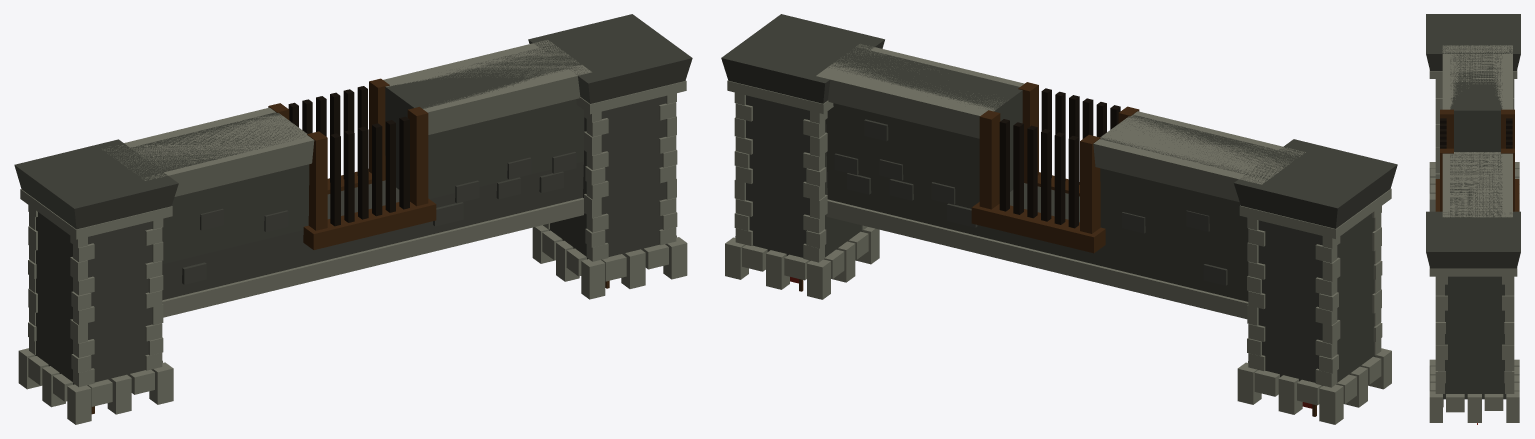
The model's file is doorwall.obj.
The picture shows the model from 3 angles, left to right: view 1: azimuth 30°, elevation 25°; view 2: azimuth 150°, elevation 25°; view 3: azimuth 270°, elevation 25°; orthographic projection. The views are drawn at different scales.
Visible parts, largest first — view 1: WallTowers_DoorClosed_SecondAge_Cube.001; view 2: WallTowers_DoorClosed_SecondAge_Cube.001; view 3: WallTowers_DoorClosed_SecondAge_Cube.001.
Part boxes in pixels (x1=…): WallTowers_DoorClosed_SecondAge_Cube.001: x1=14, y1=14, x2=692, y2=424; WallTowers_DoorClosed_SecondAge_Cube.001: x1=721, y1=14, x2=1397, y2=424; WallTowers_DoorClosed_SecondAge_Cube.001: x1=1426, y1=14, x2=1520, y2=424.
Bounding box in the file's own units: 1.98 × 0.7372 × 0.3334.
